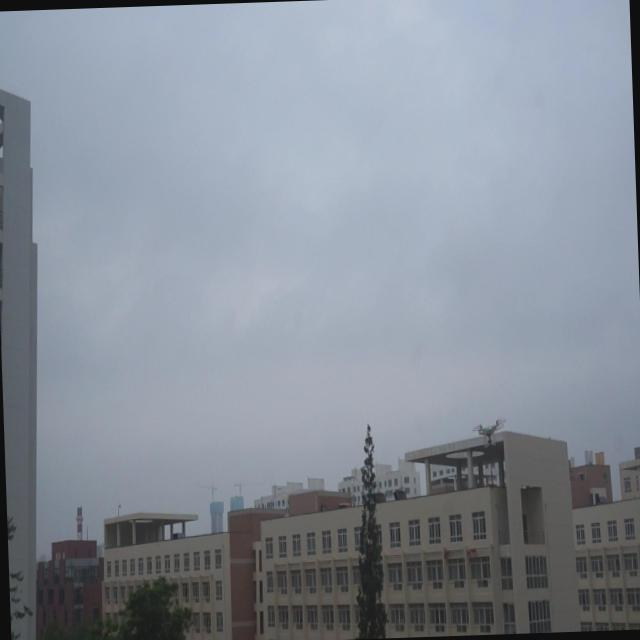drone: (468, 410, 507, 455)
